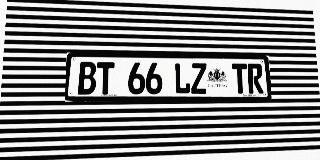6: (128, 62, 145, 94), (146, 62, 162, 94)
B: (78, 62, 96, 95)
L: (174, 63, 191, 94)
R: (247, 64, 264, 94)
T: (96, 62, 114, 94), (232, 63, 248, 94)
Z: (191, 63, 207, 94)
